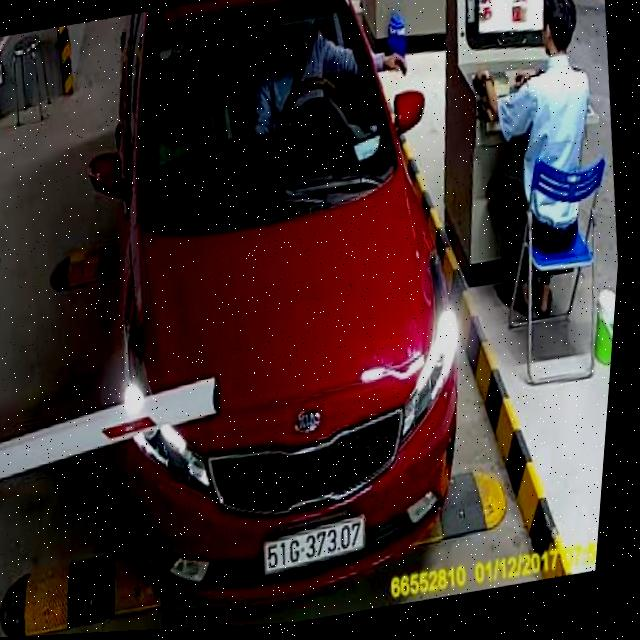car: (32, 0, 513, 633)
plate: (256, 516, 370, 579)
